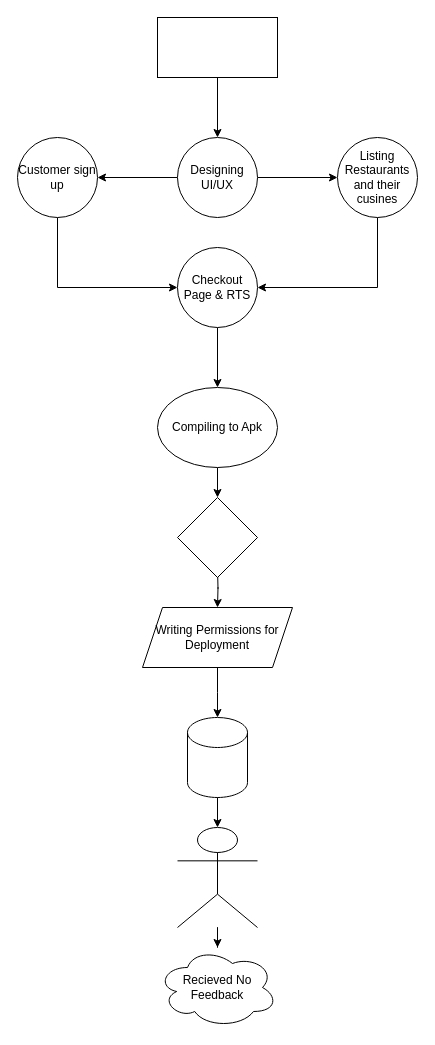
Some shapes in this 435 by 1045 pixel diagram are drawn without their labels. Each missing label, with the centre of its shape:
Customer Using Application: the point at 217,877
No Bugs Found: the point at 217,537
Pushed to Appstore: the point at 217,757
VJ Eats: the point at 217,47
